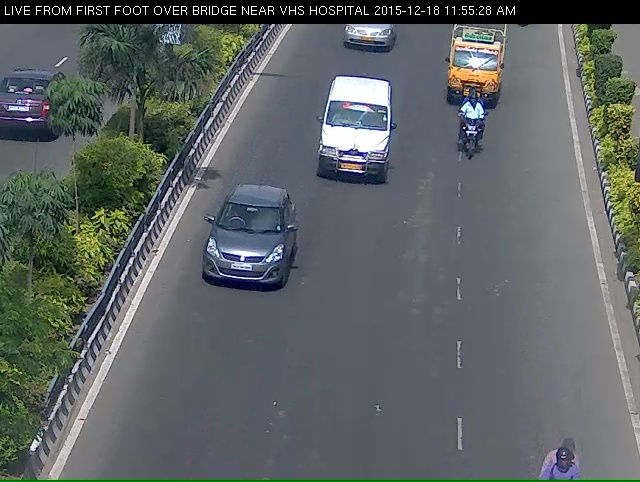Auto: (435, 20, 522, 122)
Car: (172, 203, 305, 328), (314, 87, 405, 211), (320, 20, 408, 71)
Person: (453, 112, 495, 186)
